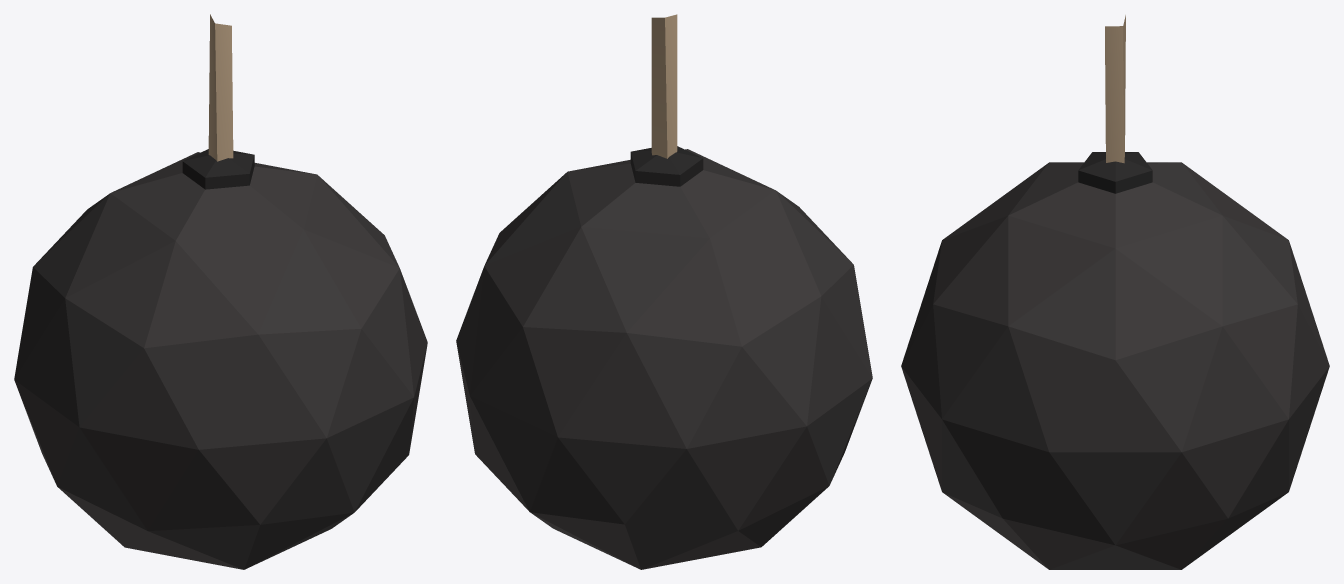
The model's file is Bomb_01.glb.
3 renders of one model, left to right at view 1: azimuth 30°, elevation 25°; view 2: azimuth 150°, elevation 25°; view 3: azimuth 270°, elevation 25°, orthographic.
Parts seen in each view (by area): view 1: Bomb_01; view 2: Bomb_01; view 3: Bomb_01.
Boxes of the visible parts, <box> form: Bomb_01: <box>14,14,427,569</box>; Bomb_01: <box>456,14,872,569</box>; Bomb_01: <box>901,15,1329,569</box>.
Size of what is drawn, in the model's own units: 0.2754 by 0.4052 by 0.2896.
1 material, 1 textured.
